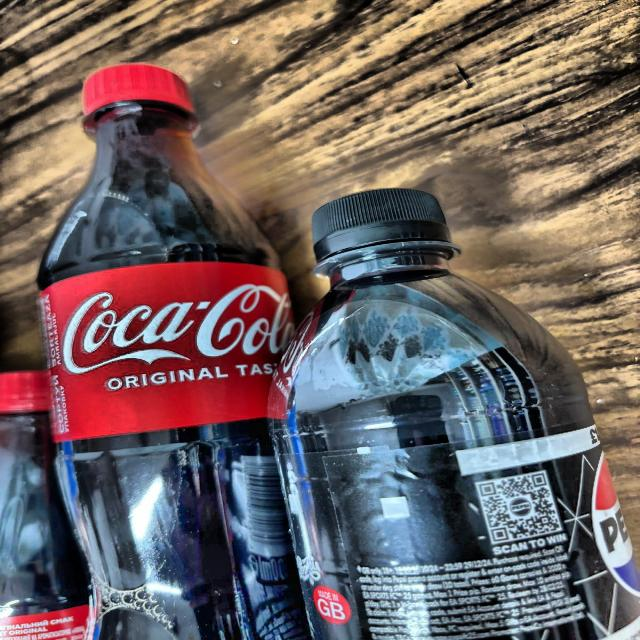coke-bottle: (32, 58, 293, 640), (8, 370, 101, 640)
pepsi-bottle: (285, 184, 640, 640)
